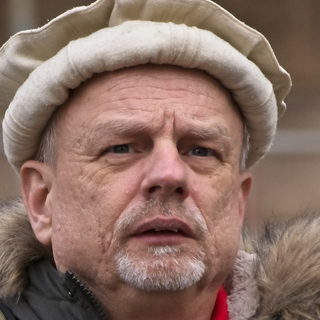eye: (96, 138, 144, 163), (180, 139, 224, 164)
